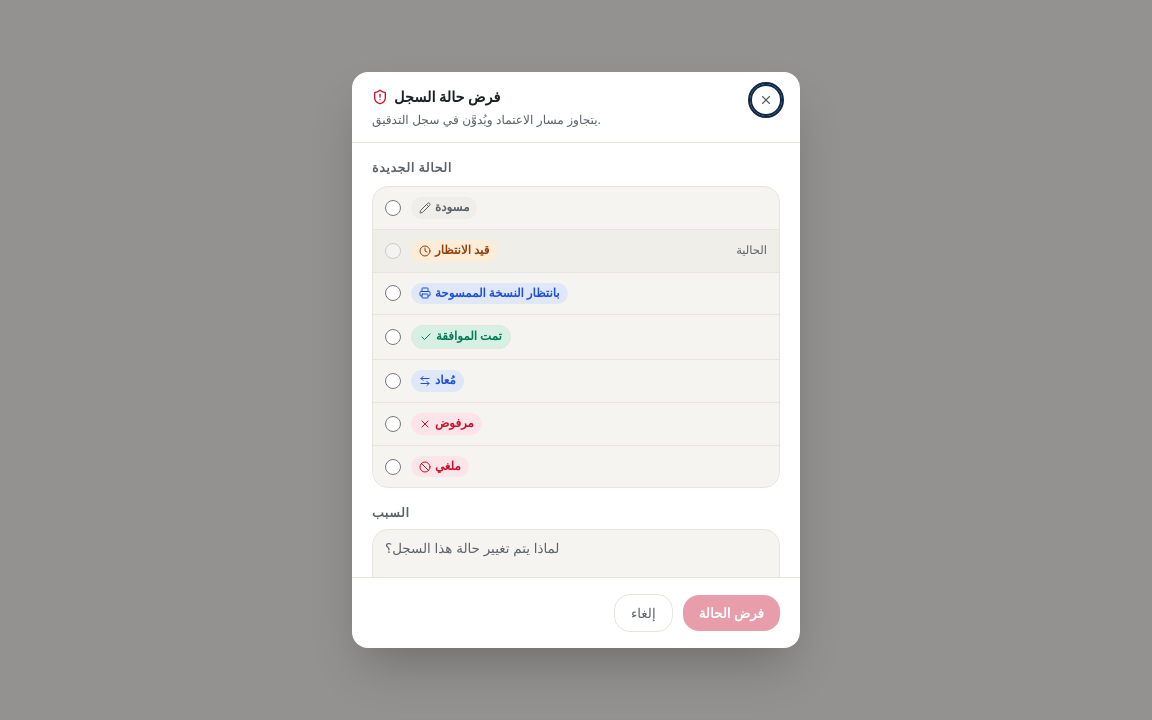
Test: RecordStateOverrideDialog › spells out that forcing approved adds no signature
This screenshot has width=1152, height=720.
Click the radio button labelled "تمت الموافقة": [393, 337] box top-left (385, 329), bottom-right (401, 345)
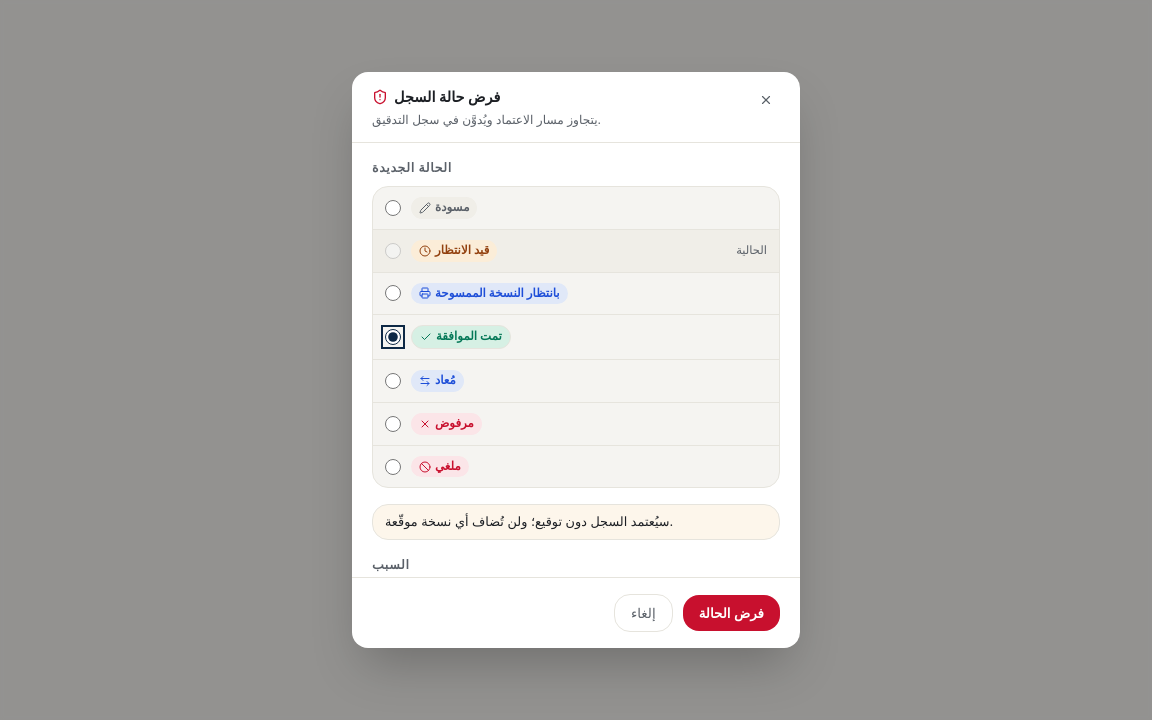
Result: the text with test id "state-override-consequence" shows "دون توقيع" at top-left (385, 514), bottom-right (673, 529)
